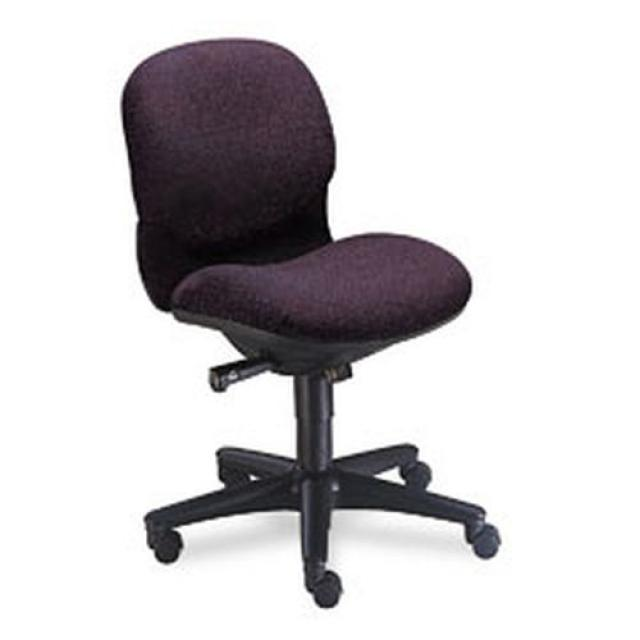swivelchair: (119, 38, 500, 609)
